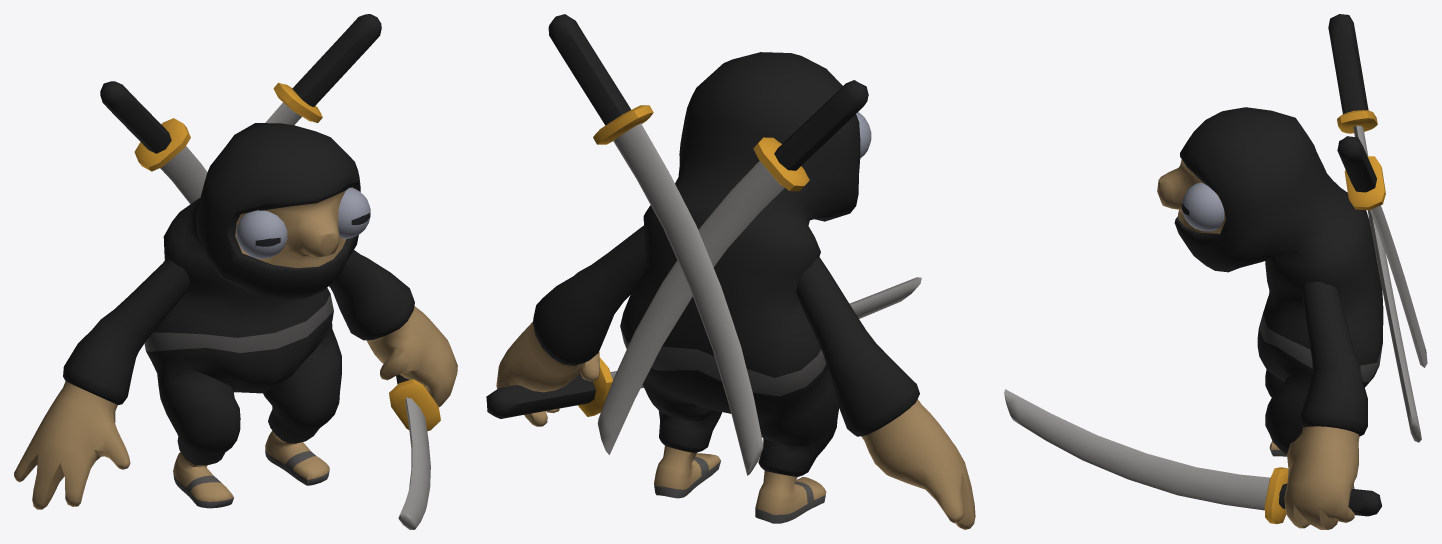
Rendered from Ninja.obj.
The picture shows the model from 3 angles, left to right: view 1: azimuth 30°, elevation 25°; view 2: azimuth 150°, elevation 25°; view 3: azimuth 270°, elevation 25°; orthographic projection. The views are drawn at different scales.
Parts seen in each view (by area): view 1: Ninja_Cube.092; view 2: Ninja_Cube.092; view 3: Ninja_Cube.092.
Boxes of the visible parts, x1,y1,x2,y2 form: Ninja_Cube.092: (14,14,457,529); Ninja_Cube.092: (486,14,975,529); Ninja_Cube.092: (1004,14,1427,529).
Size of the model in its own units: 3.12 by 2.91 by 2.76.
